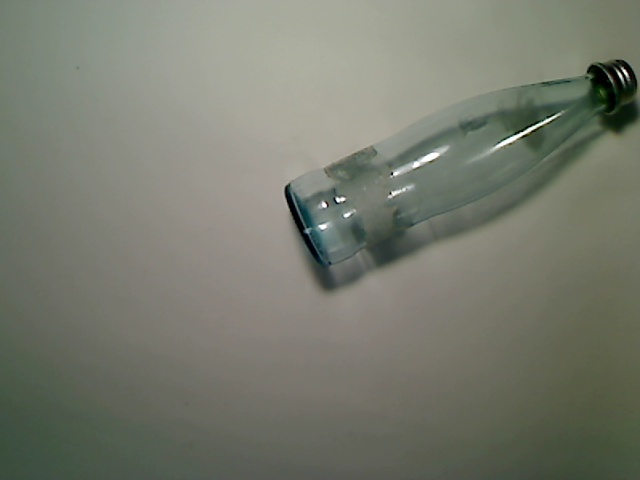bottle: (282, 57, 640, 267)
